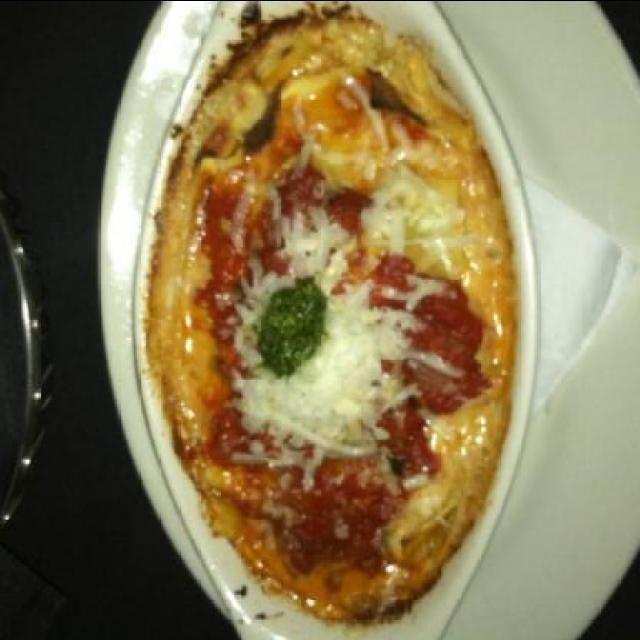Lasagna: (173, 36, 502, 587)
